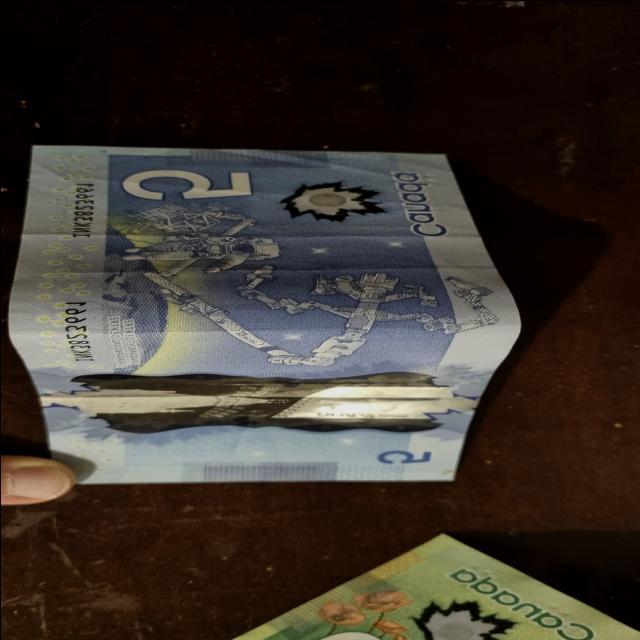5 cad: (5, 143, 512, 483)
